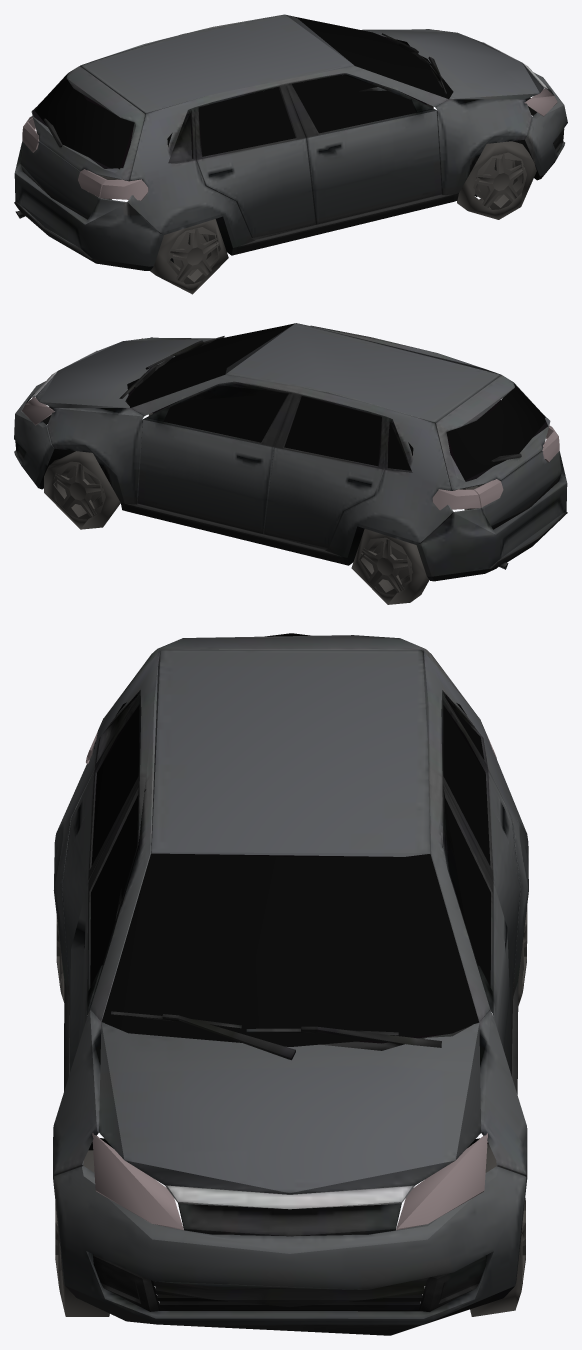
Rendered from pc-hatchback-grey.lod1.glb.
The picture shows the model from 3 angles, top to bottom: view 1: azimuth 30°, elevation 25°; view 2: azimuth 150°, elevation 25°; view 3: azimuth 270°, elevation 25°; orthographic projection. The views are drawn at different scales.
Parts seen in each view (by area): view 1: Hatchback Body_Body_0, Hatchback Body_Glass_0; view 2: Hatchback Body_Body_0, Hatchback Body_Glass_0; view 3: Hatchback Body_Body_0, Hatchback Body_Glass_0.
Boxes of the visible parts, left/top/right/bottom form: Hatchback Body_Body_0: left=14, top=14, right=567, bottom=270; Hatchback Body_Glass_0: left=22, top=16, right=557, bottom=294; Hatchback Body_Body_0: left=14, top=323, right=567, bottom=581; Hatchback Body_Glass_0: left=22, top=323, right=559, bottom=604; Hatchback Body_Body_0: left=53, top=635, right=528, bottom=1335; Hatchback Body_Glass_0: left=55, top=633, right=527, bottom=1316.
Size of the model in its own units: 3.92 by 1.31 by 1.62.
Materials: 2 (1 with a texture image).
